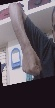hand: (20, 48, 41, 77)
